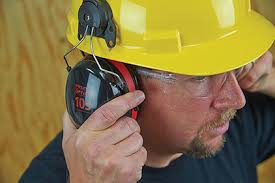hard hat: (66, 1, 275, 75)
